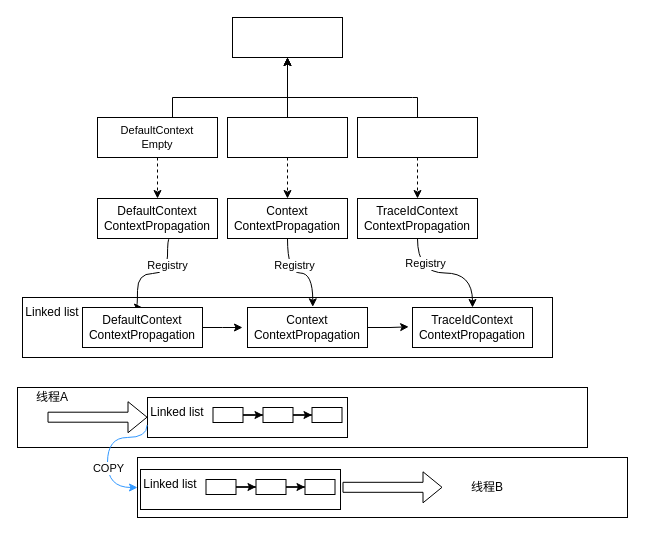
The diagram is 645 pixels wide and 535 high, and some of its shapes have lost their labels. Here are the shapes that lost their labels. From the top down, the box of each, then its label:
(232, 16, 342, 58): IContext
(226, 116, 348, 158): Context ThreadLocal
(356, 116, 478, 158): TraceIdContext ThreadLocal
